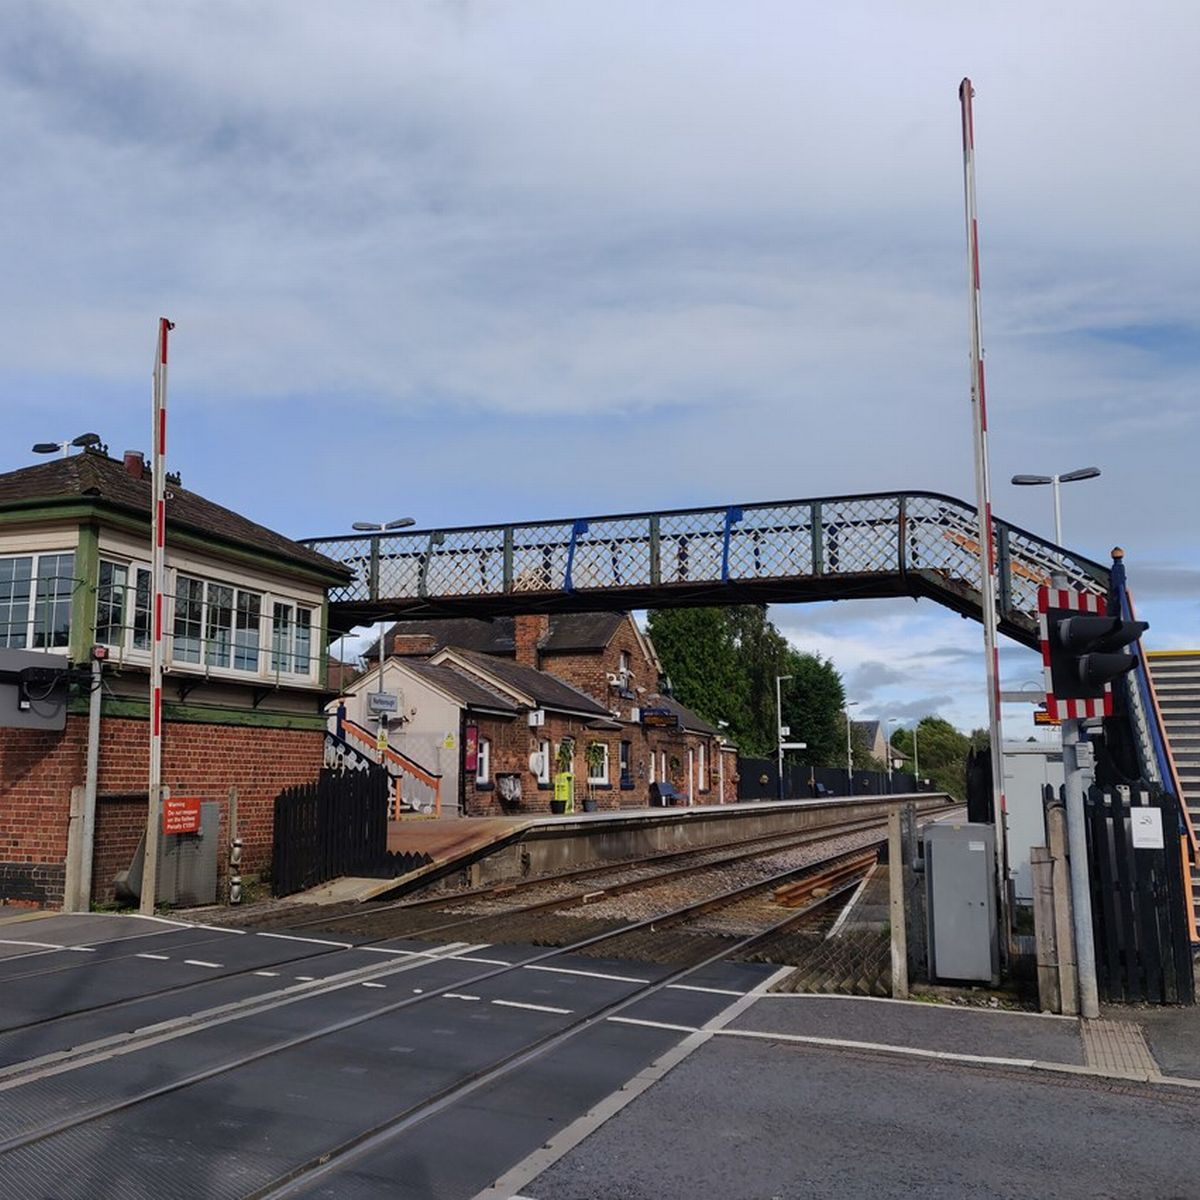bridge: (303, 482, 1113, 913)
